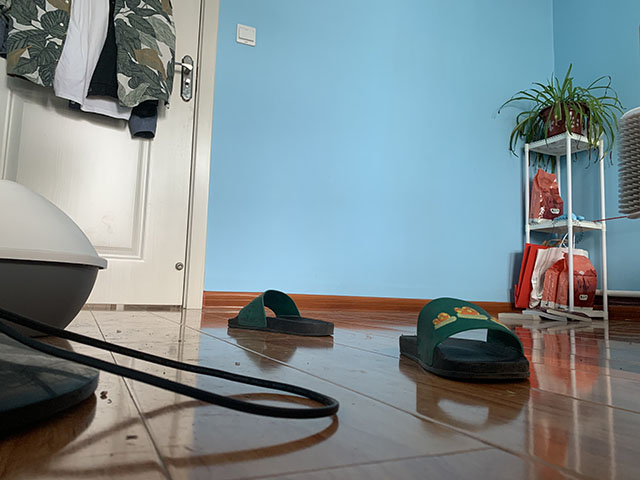book: (494, 305, 592, 323)
slippers: (398, 296, 532, 384), (227, 289, 335, 338)
wire: (1, 305, 340, 420)
